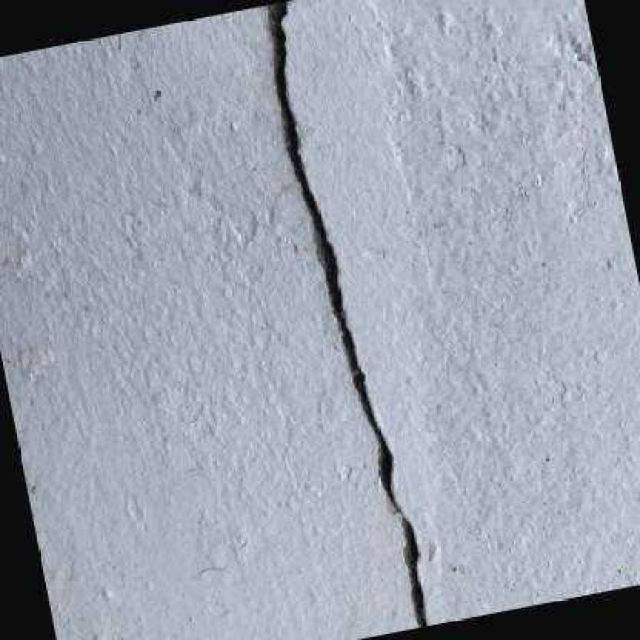D00: (263, 0, 427, 627)
